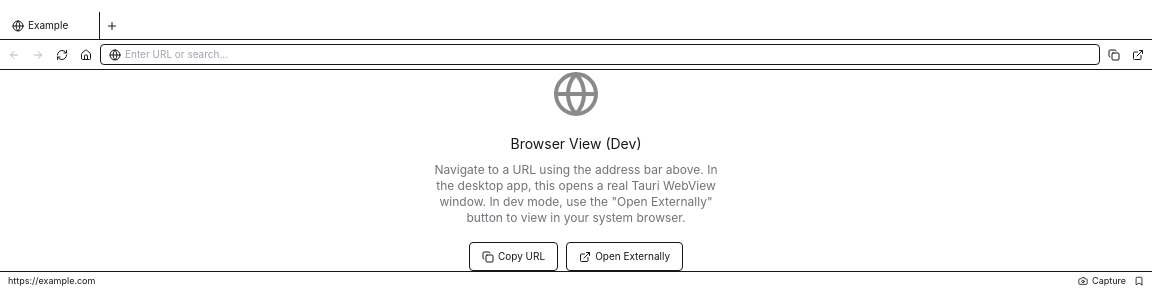
Scenario: BrowserConnector › tab bar › sets the new tab as active
Step 1. Click the button with class "lucide-plus" → (112, 26), box 100,14 -> 124,38
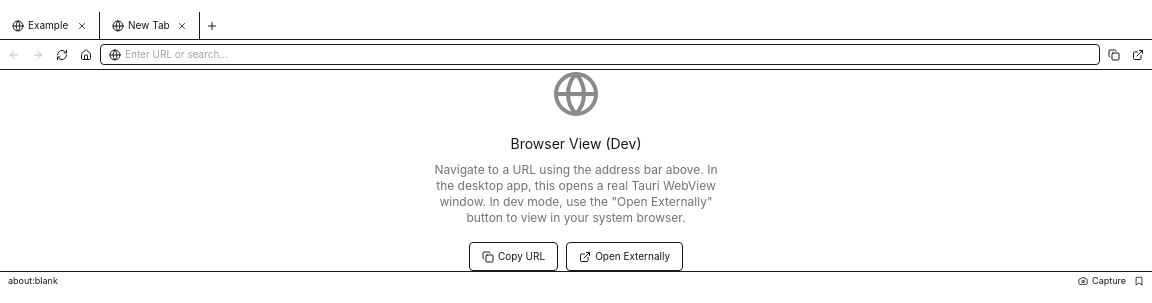
Expected: the element showing "New Tab" is shown, 100,12 -> 200,39
